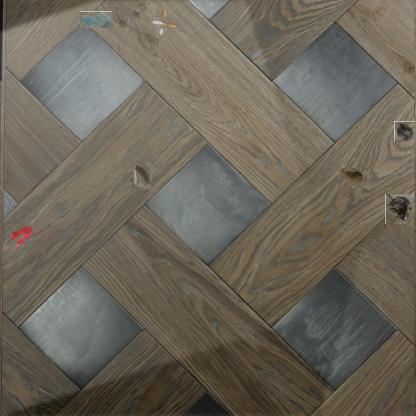dirty: (385, 195, 415, 224), (339, 168, 367, 188), (130, 165, 152, 187), (394, 121, 415, 142), (152, 13, 172, 34)
liquid: (10, 224, 35, 250), (80, 11, 112, 28)
